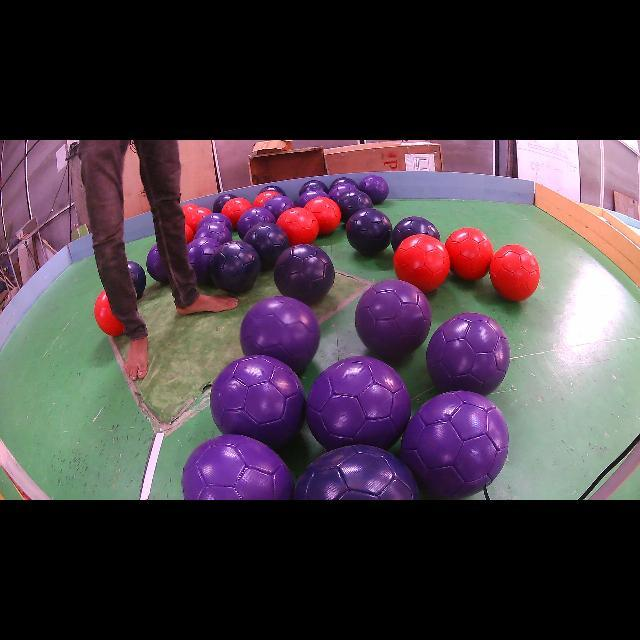B: (294, 445, 419, 500), (274, 244, 335, 304), (210, 241, 261, 294), (242, 222, 290, 270), (346, 208, 392, 255), (391, 216, 440, 251), (338, 190, 372, 222), (128, 261, 146, 298), (212, 194, 236, 212), (300, 180, 329, 194), (330, 178, 359, 188), (260, 185, 285, 196)
P: (401, 390, 509, 499), (306, 356, 411, 450), (210, 355, 305, 449), (182, 435, 294, 500), (426, 312, 510, 395), (240, 296, 320, 372), (355, 280, 431, 359), (188, 238, 220, 284), (238, 208, 276, 239), (146, 244, 169, 282), (194, 222, 232, 245), (359, 175, 389, 204), (262, 195, 295, 220), (198, 212, 232, 231), (298, 189, 328, 208), (329, 182, 356, 202)
R: (394, 234, 450, 292), (489, 244, 540, 301), (445, 228, 494, 280), (276, 208, 319, 246), (304, 196, 341, 234), (94, 291, 125, 336), (221, 198, 252, 229), (185, 208, 211, 232), (252, 191, 279, 208), (185, 224, 194, 244), (182, 204, 199, 214)
